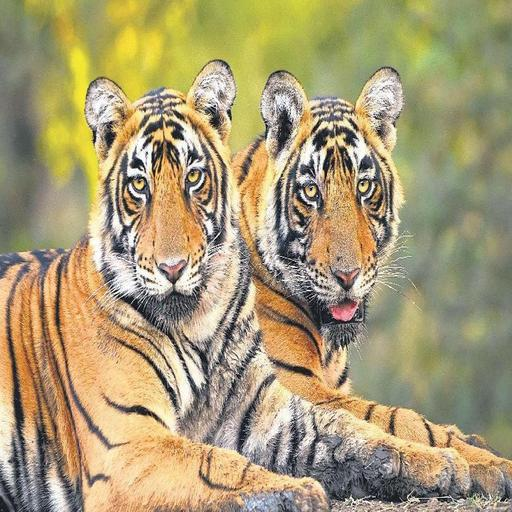Tiger: (0, 61, 512, 512), (0, 62, 475, 512)
